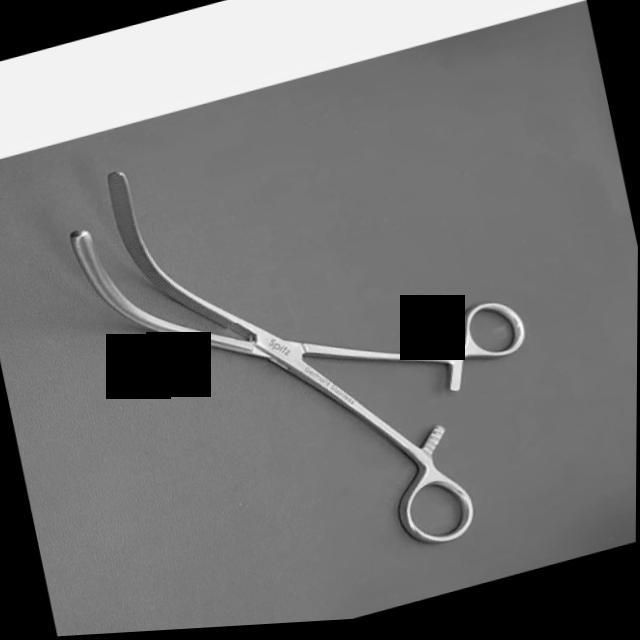Doyel Instestinal Forceps: (54, 70, 570, 632)
